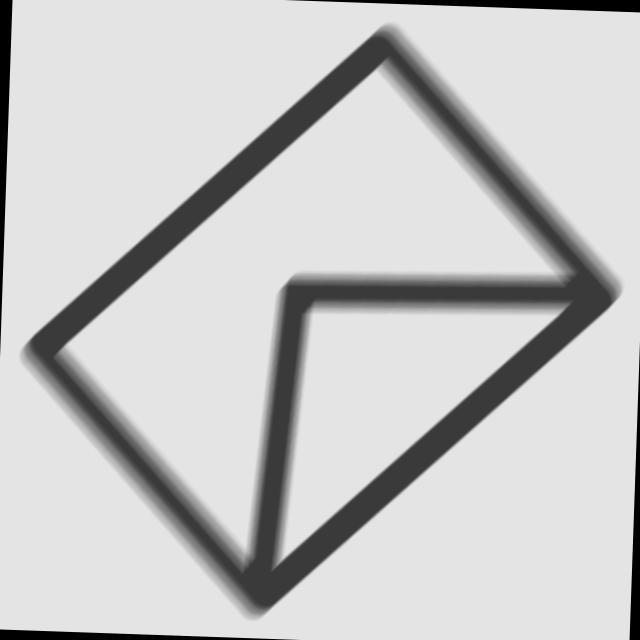letter: (2, 1, 640, 640)
